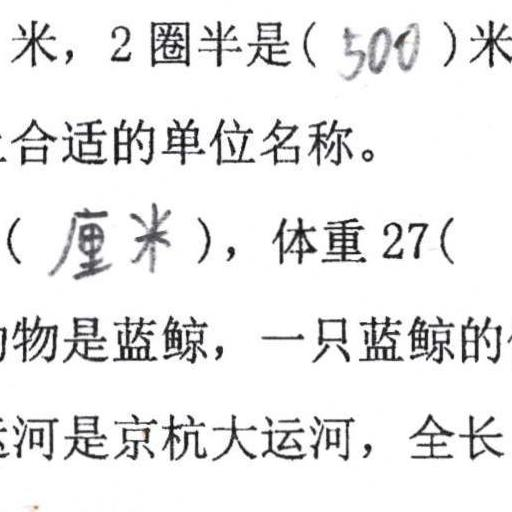ans: (48, 196, 173, 282), (334, 15, 421, 81)
